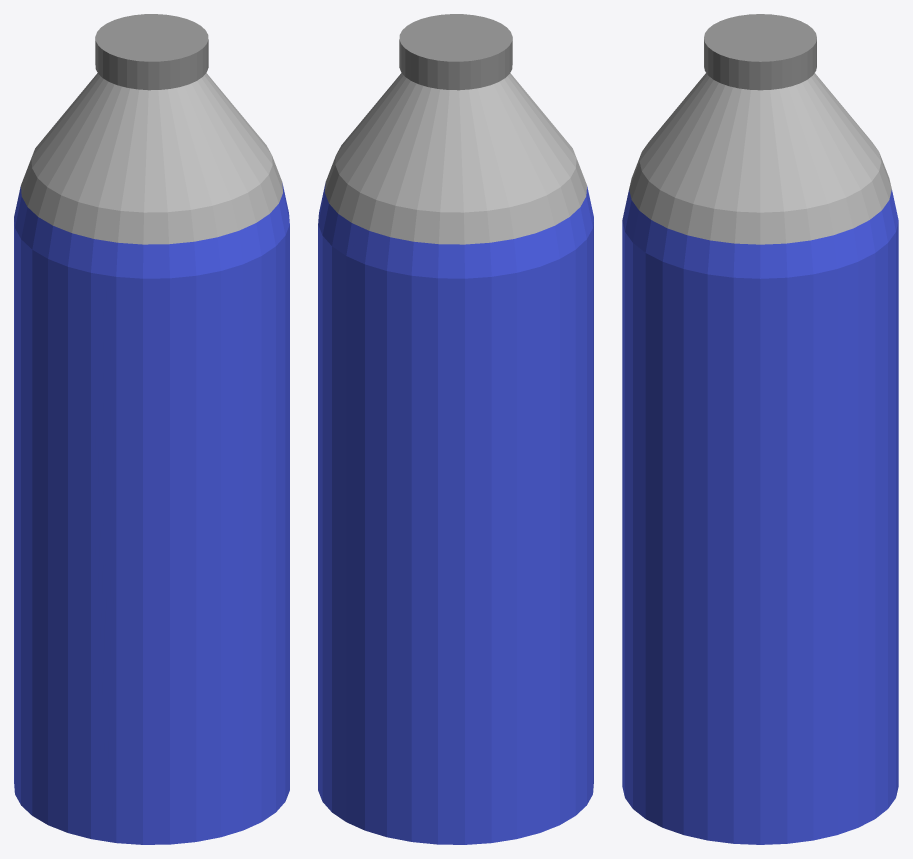
File: water bottel2.glb
The picture shows the model from 3 angles, left to right: view 1: azimuth 30°, elevation 25°; view 2: azimuth 150°, elevation 25°; view 3: azimuth 270°, elevation 25°; orthographic projection.
Parts seen in each view (by area): view 1: Cylinder, Cylinder.002, Cylinder.001; view 2: Cylinder, Cylinder.002, Cylinder.001; view 3: Cylinder, Cylinder.002, Cylinder.001.
Boxes of the visible parts, x1,y1,x2,y2 form: Cylinder: [14, 183, 289, 844]; Cylinder.002: [21, 73, 282, 244]; Cylinder.001: [95, 14, 208, 90]; Cylinder: [318, 183, 593, 844]; Cylinder.002: [325, 73, 586, 244]; Cylinder.001: [399, 14, 512, 90]; Cylinder: [622, 190, 898, 844]; Cylinder.002: [629, 73, 891, 244]; Cylinder.001: [704, 14, 816, 90].
Size of the model in its own units: 1.7 by 5.09 by 1.7.
